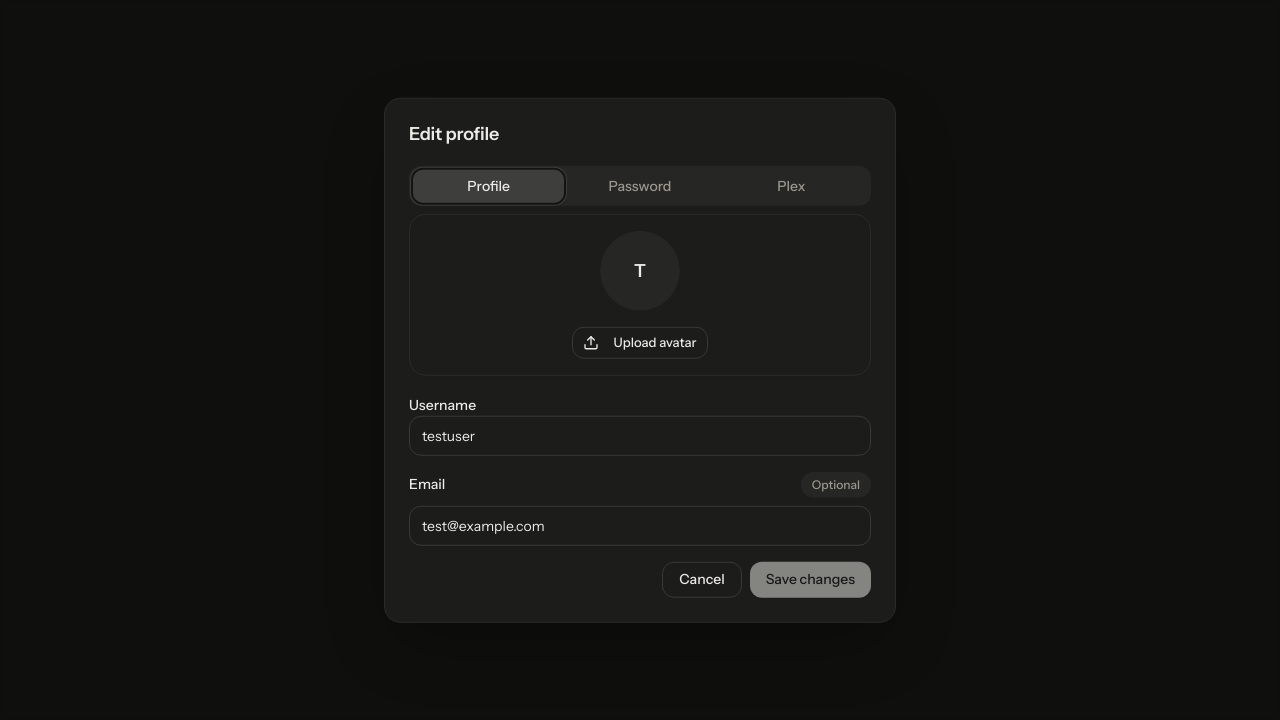
Test case: EditProfileModal › saving the profile › rejects a malformed email
This screenshot has width=1280, height=720.
Check: the heading "Edit profile" is shown, box [409,123,499,145]
Replace the text in the field labelled "Email" with "someone@localhost": (640, 525) [409,505,871,545]
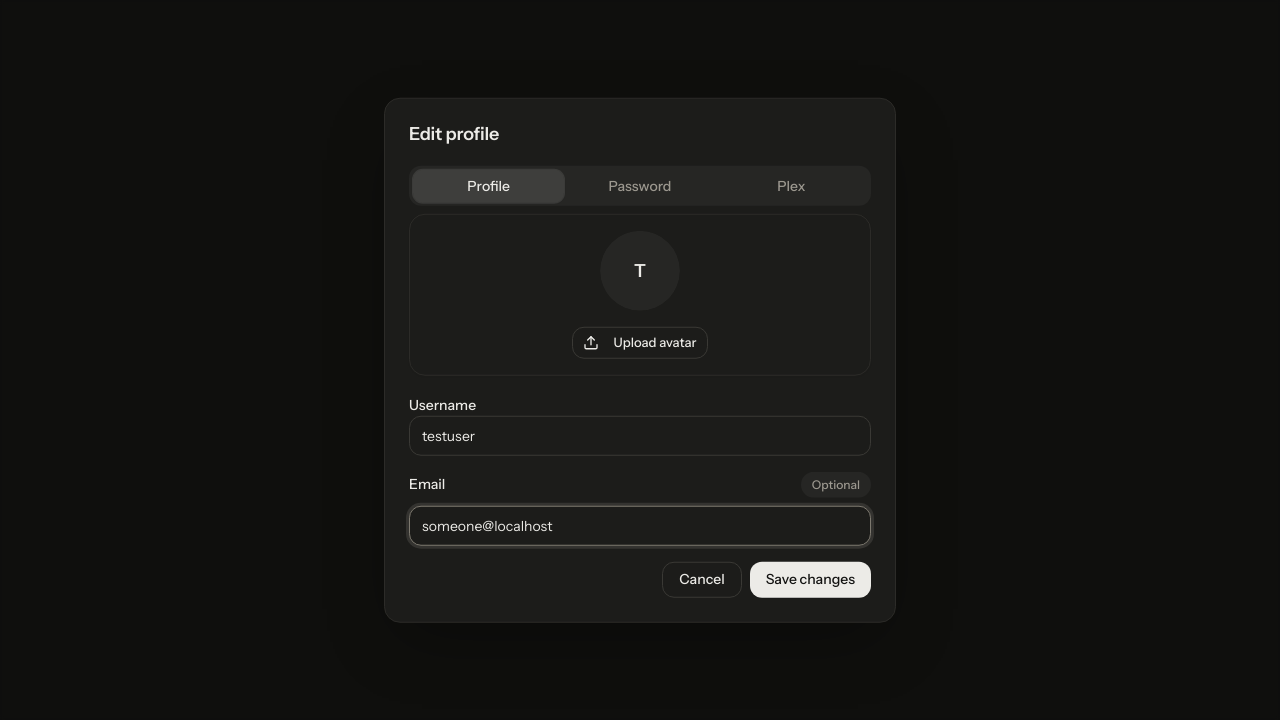
Click the button "Save changes": (810, 579) [750,561,871,597]
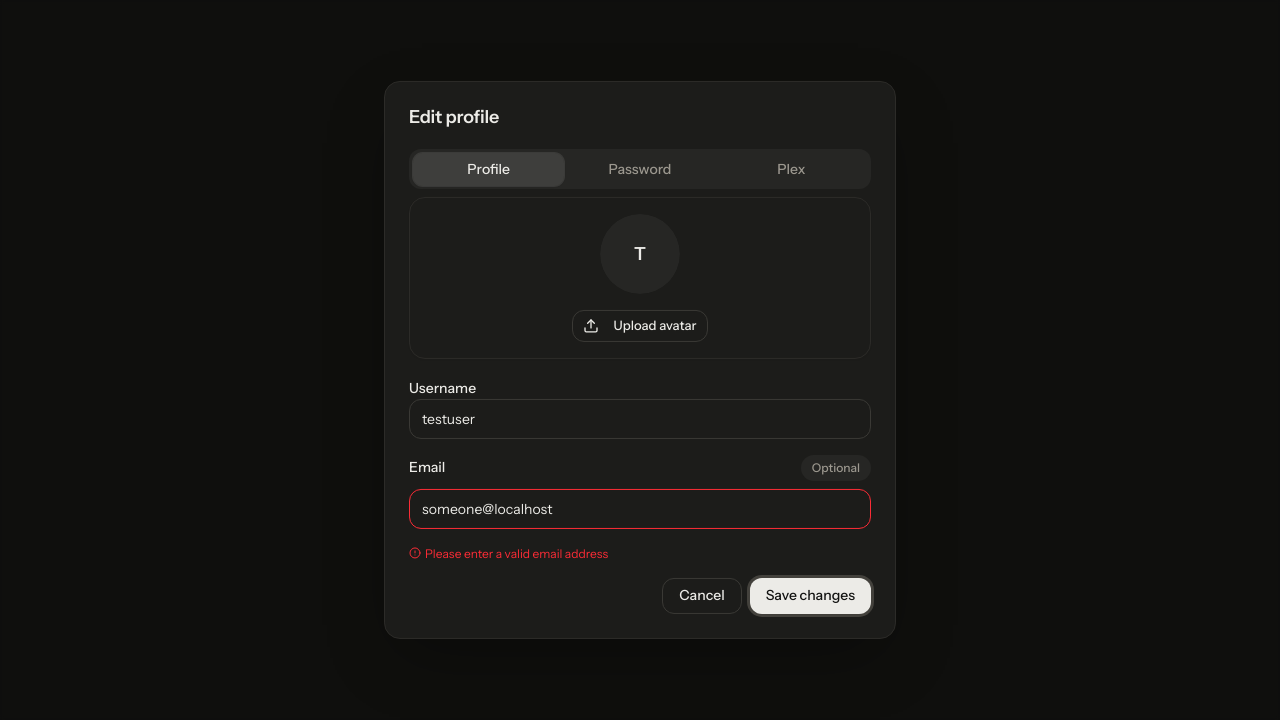
Check: the text "Please enter a valid email address" is shown, box [409,546,608,560]
